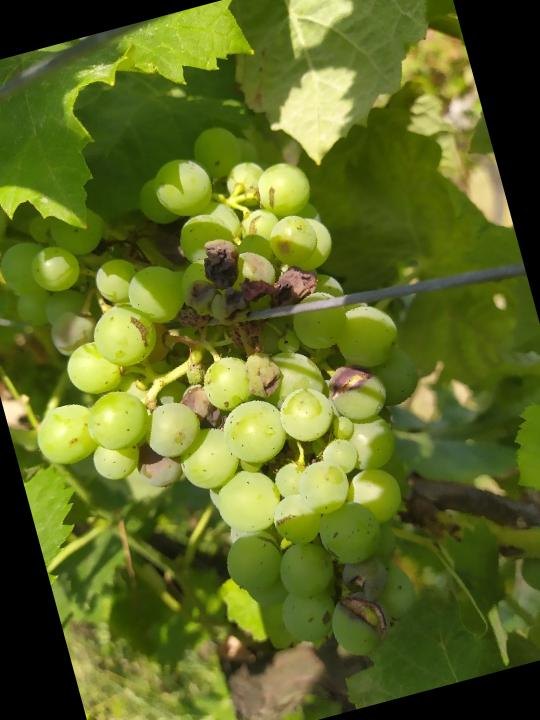grape: (0, 92, 490, 720)
